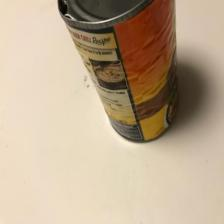metal: (55, 0, 194, 142)
